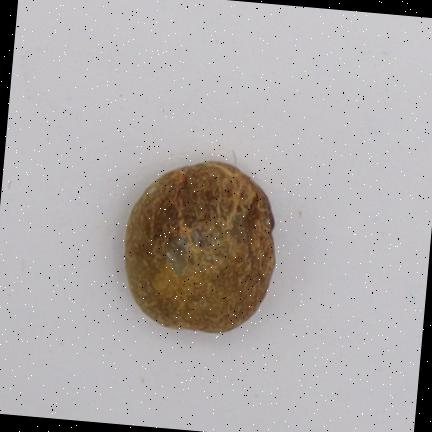broken: (126, 162, 275, 333)
